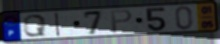0: (174, 5, 194, 31)
5: (144, 7, 168, 33)
7: (82, 10, 104, 36)
I: (54, 12, 62, 38)
P: (109, 9, 134, 35)
Q: (22, 14, 48, 38)
